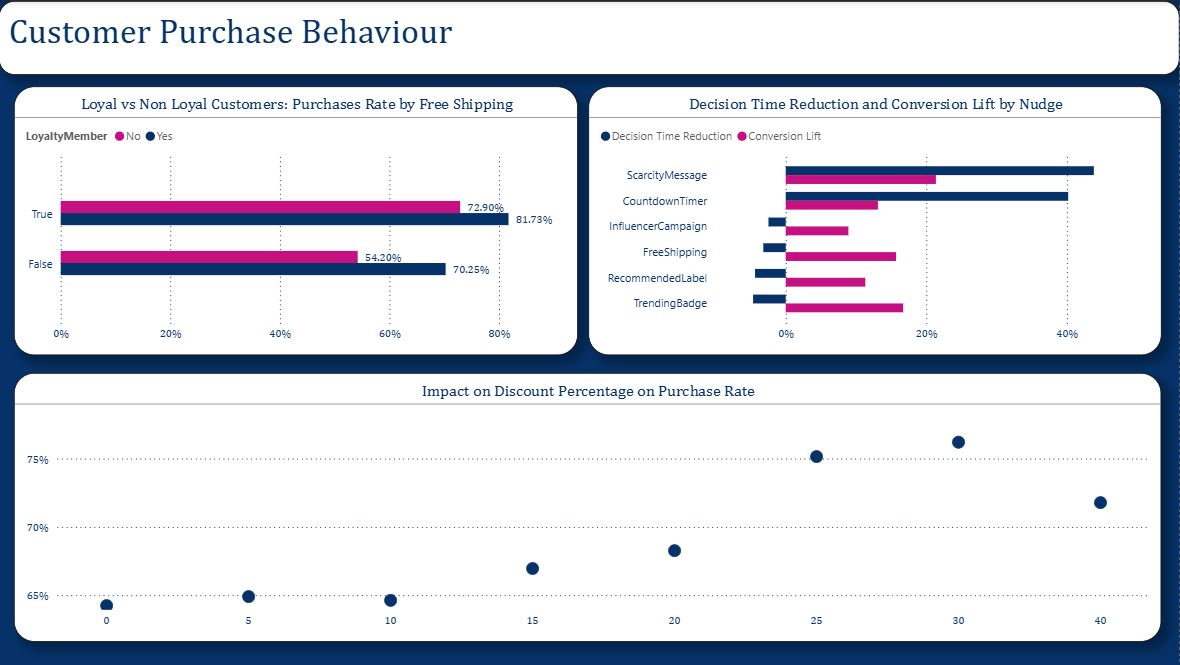

The page's visual inventory and layout, read from the dashboard file:
{"tool":"powerbi","page":{"name":"Customer Responsiveness & Segmentation","canvas":[1280,720],"ordinal":2},"visuals":[{"type":"textbox","box":[0,0,1280.1,79.7],"z":0},{"type":"clusteredBarChart","title":"Loyal vs Non Loyal Customers: Purchases Rate by Free Shipping","fields":{"Category":["consumer_behavior_master_clustered.FreeShipping"],"Y":["consumer_behavior_master_clustered.Conversion Rate"],"Series":["consumer_behavior_master_clustered.LoyaltyMember"]},"box":[16.3,92.7,611.6,291.2],"z":1000},{"type":"scatterChart","title":"Impact of Discount Percentage on Purchase Rate","fields":{"X":["consumer_behavior_master_clustered.Discount_Percentage"],"Y":["consumer_behavior_master_clustered.Conversion Rate"]},"box":[16.3,403.4,1244.3,291.2],"z":2000},{"type":"clusteredBarChart","fields":{"Category":["NudgeAnalysis.Nudge"],"Y":["NudgeAnalysis.Decision Time Reduction","NudgeAnalysis.Conversion Lift"]},"box":[639.2,92.7,621.3,291.2],"z":3000}]}

Visuals, with their boxes in screenshot pixels (x1, y1, x2, y2), scaled from the page's 1280x720 canvas onto the 1180x665 screenshot:
textbox: 0 0 1179 74
"Loyal vs Non Loyal Customers: Purchases Rate by Free Shipping" clusteredBarChart: 15 86 579 355
"Impact of Discount Percentage on Purchase Rate" scatterChart: 15 373 1162 642
clusteredBarChart - NudgeAnalysis.Nudge x NudgeAnalysis.Decision Time Reduction: 589 86 1162 355
